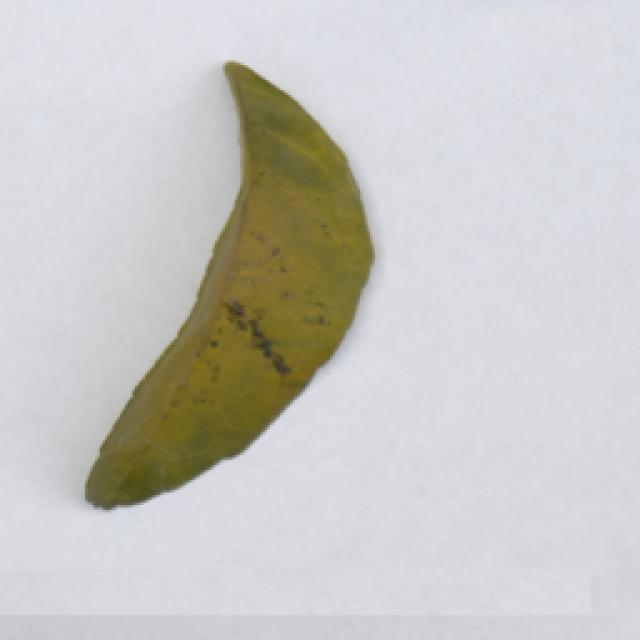blackspot: (73, 53, 387, 515)
